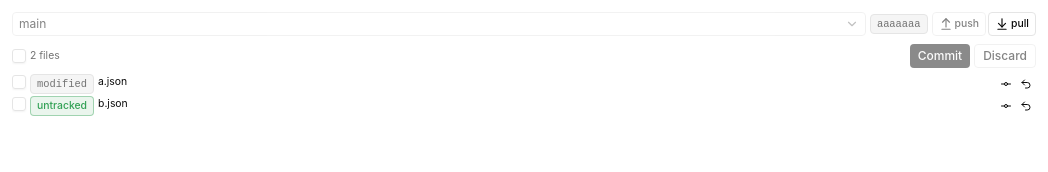
the Uncommitted tab names each change in a word, not a porcelain code › every row has a checkbox, and tick-all ticks them all
The image size is (1048, 172).
expect the checkbox named "Select a.json" is shown: met, box [12, 75, 26, 89]
expect the checkbox named "Select b.json" is shown: met, box [12, 97, 26, 111]
What coordinates should you click on to do the following:
click the checkbox named "Select every file"
I would click on:
 (19, 56)
Its box is [12, 49, 26, 63].
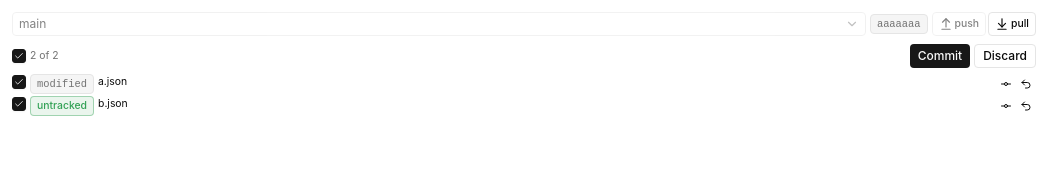
expect the text "2 of 2" is shown: met, box [30, 48, 59, 64]
expect the button "Commit" is enabled: met, box [910, 44, 970, 68]
expect the button "Discard" is enabled: met, box [974, 44, 1036, 68]
